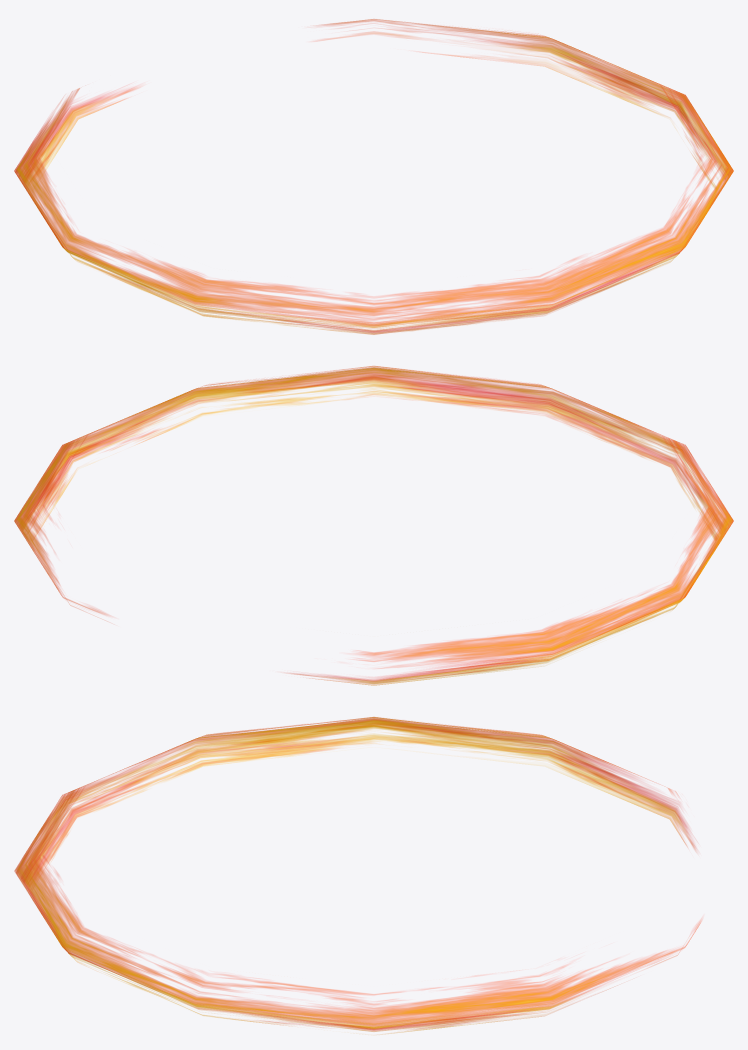
File: dk_pillarof_fire_ring-fc251037.glb
3 views of the same model, one above another, from view 1: azimuth 30°, elevation 25°; view 2: azimuth 150°, elevation 25°; view 3: azimuth 270°, elevation 25° (orthographic).
Parts seen in each view (by area): view 1: dk_pillarof_fire_ring; view 2: dk_pillarof_fire_ring; view 3: dk_pillarof_fire_ring.
Part boxes in pixels (x1,y1,x2,y2): dk_pillarof_fire_ring: [14, 19, 733, 334]; dk_pillarof_fire_ring: [14, 366, 733, 685]; dk_pillarof_fire_ring: [14, 717, 701, 1034].
Size of the model in its own units: 7.48 by 0.4734 by 7.48.
1 material, 1 textured.
